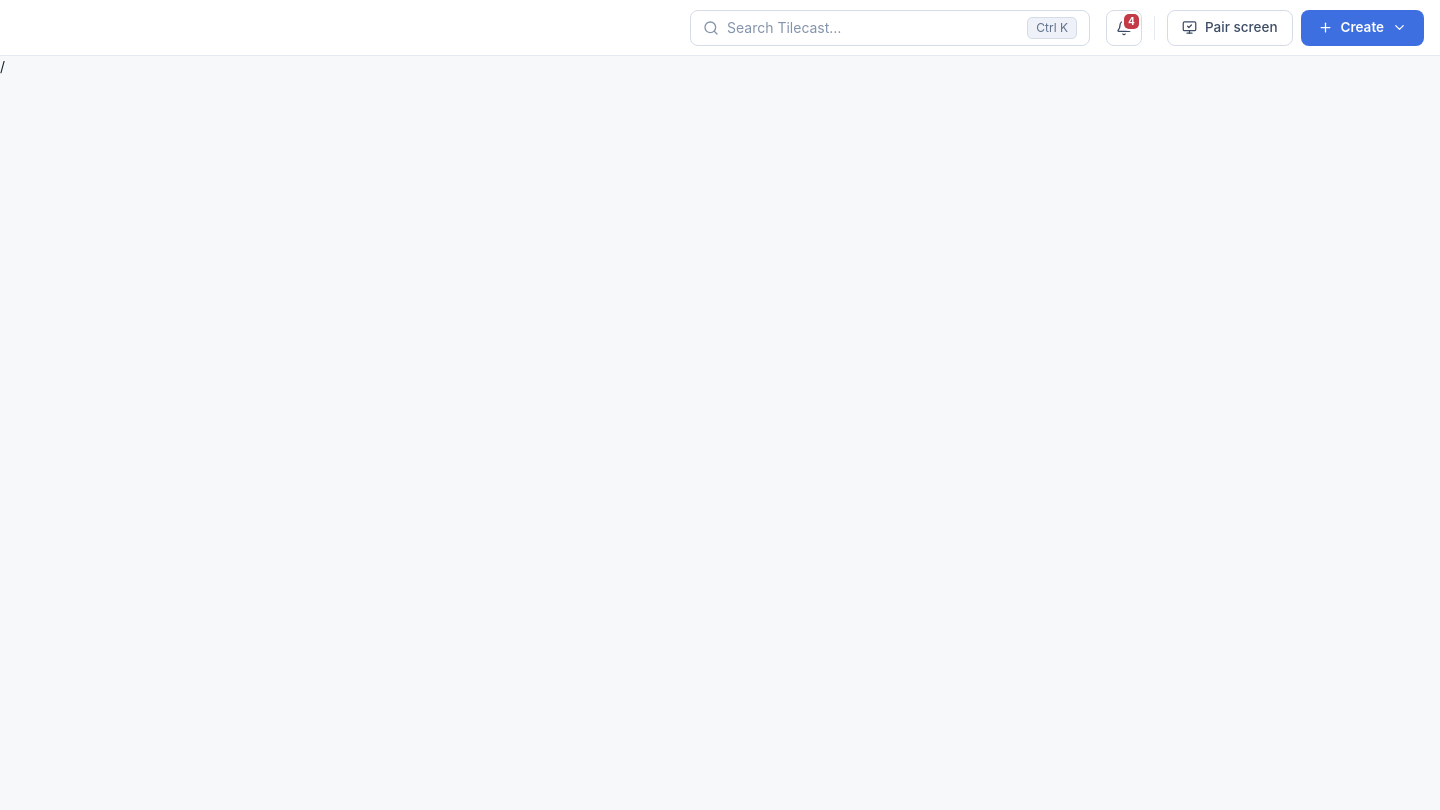
Test: StudioTopbar › groups notifications by priority and surfaces new alert sources
Click the button named "Notifications" at coordinates (1124, 28), box [1106, 10, 1142, 46]
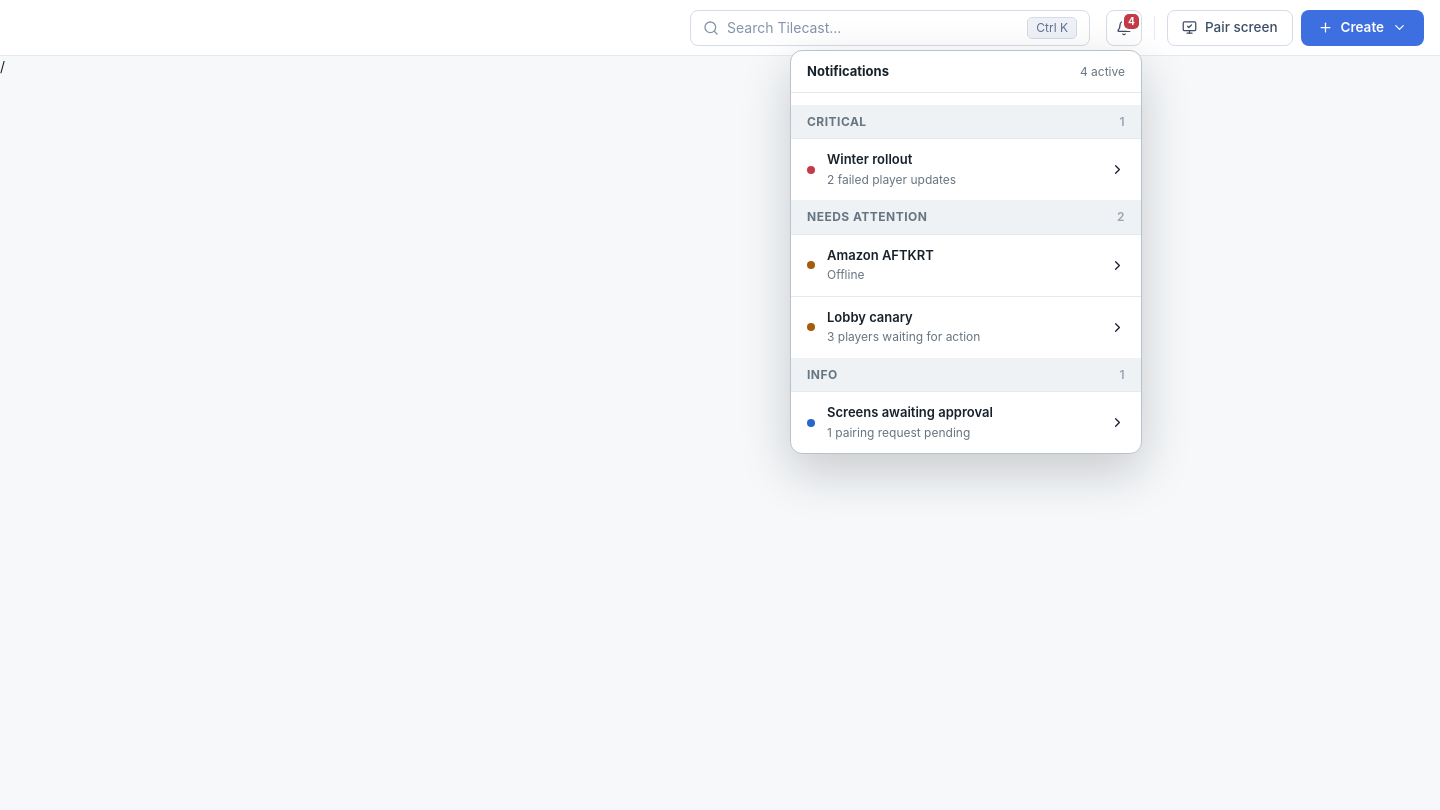
expect the text "Critical" is shown: met, box [807, 114, 867, 129]
expect the text "Needs attention" is shown: met, box [807, 209, 927, 224]
expect the text "Info" is shown: met, box [807, 367, 838, 382]
